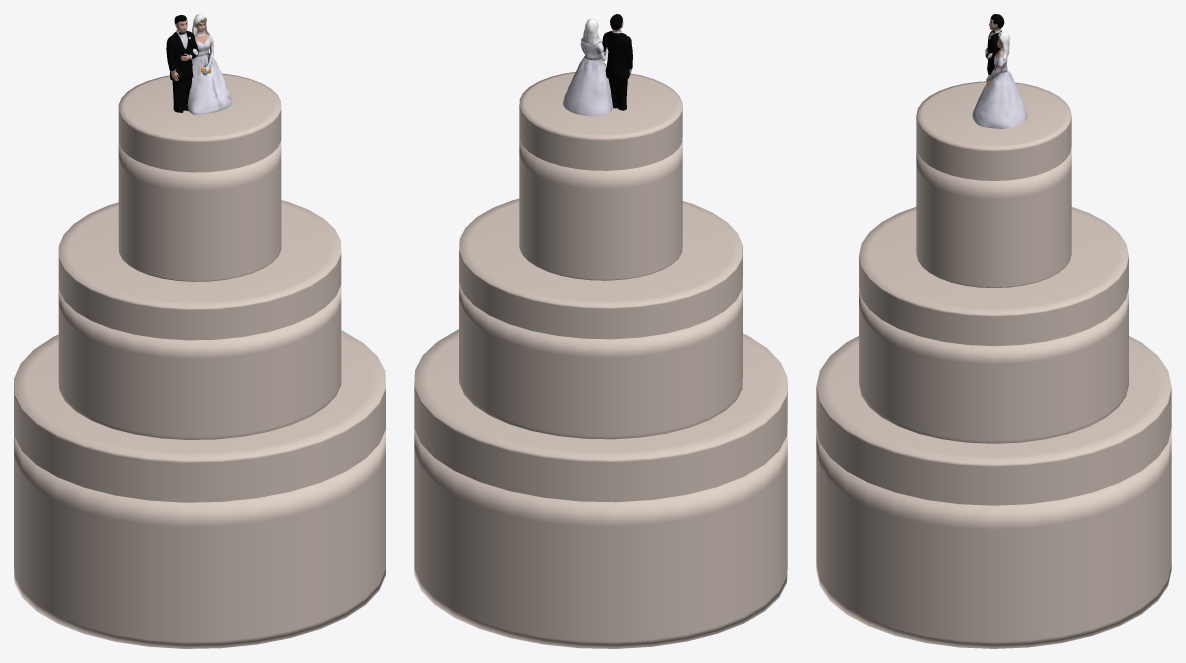
File: 3-tier-white-none-bridegroom.glb
3 views of the same model, side by side, from view 1: azimuth 30°, elevation 25°; view 2: azimuth 150°, elevation 25°; view 3: azimuth 270°, elevation 25° (orthographic). The views are drawn at different scales.
Parts seen in each view (by area): view 1: Cylinder.022, Cylinder.014, Cylinder.021, 13501_Cake_Topper_Bride_Groom_v1_L1.002; view 2: Cylinder.022, Cylinder.014, Cylinder.021, 13501_Cake_Topper_Bride_Groom_v1_L1.002; view 3: Cylinder.022, Cylinder.014, Cylinder.021, 13501_Cake_Topper_Bride_Groom_v1_L1.002.
Boxes of the visible parts, x1,y1,x2,y2 form: Cylinder.022: (14, 330, 385, 648); Cylinder.014: (58, 200, 341, 439); Cylinder.021: (118, 73, 281, 281); 13501_Cake_Topper_Bride_Groom_v1_L1.002: (166, 14, 232, 114); Cylinder.022: (414, 329, 787, 648); Cylinder.014: (459, 198, 742, 439); Cylinder.021: (519, 72, 682, 280); 13501_Cake_Topper_Bride_Groom_v1_L1.002: (563, 14, 632, 116); Cylinder.022: (816, 336, 1171, 648); Cylinder.014: (859, 207, 1128, 443); Cylinder.021: (916, 81, 1071, 287); 13501_Cake_Topper_Bride_Groom_v1_L1.002: (972, 14, 1027, 128).
Size of the model in its own units: 4.22 by 6.91 by 4.06.
Materials: 2 (1 with a texture image).
